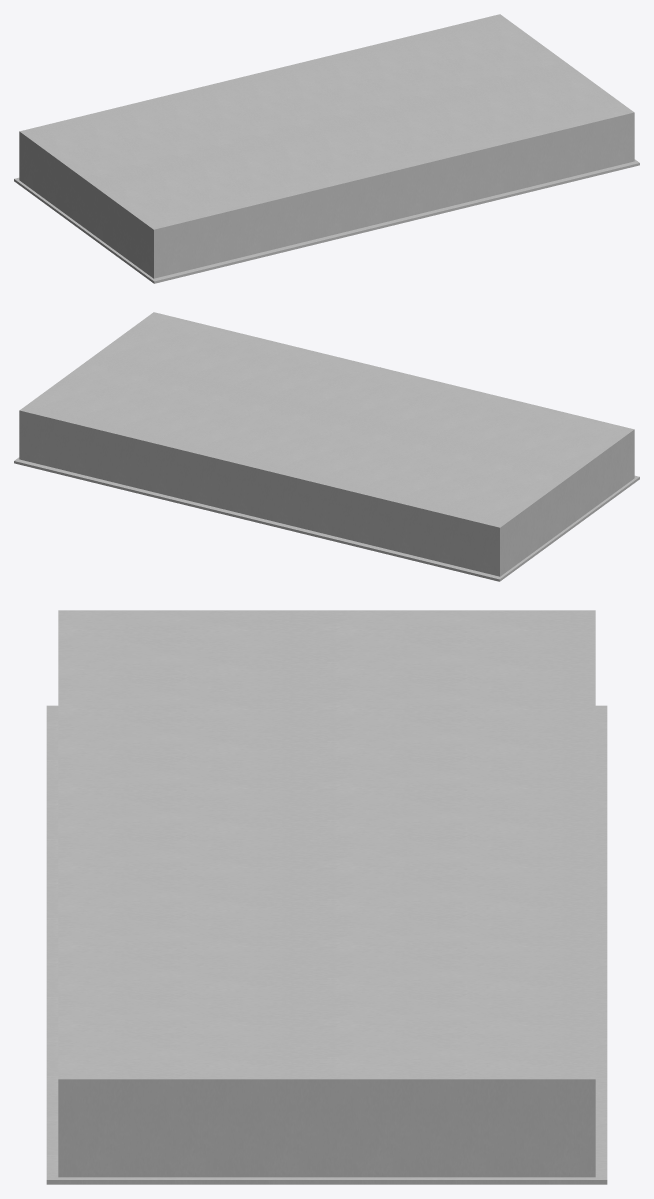
File: DownLight-2x4+Fluor.fbx
3 renders of one model, top to bottom at view 1: azimuth 30°, elevation 25°; view 2: azimuth 150°, elevation 25°; view 3: azimuth 270°, elevation 25°, orthographic. The views are drawn at different scales.
Visible parts, largest first — view 1: Group1; view 2: Group1; view 3: Group1.
Part boxes in pixels (x1,y1,x2,y2): Group1: (14,14,639,283); Group1: (14,312,639,581); Group1: (46,610,607,1184).
Size of the model in its own units: 48 by 4.87 by 24.
